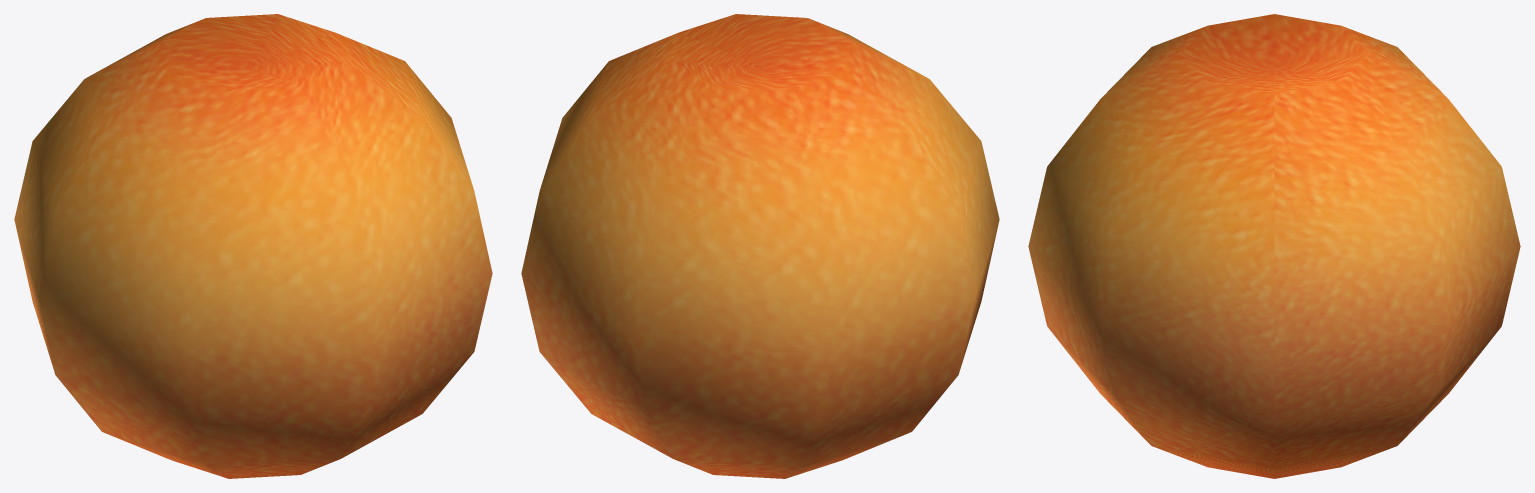
The model's file is Grapefruit_Whole.fbx.
3 renders of one model, left to right at view 1: azimuth 30°, elevation 25°; view 2: azimuth 150°, elevation 25°; view 3: azimuth 270°, elevation 25°, orthographic.
Visible parts, largest first — view 1: Grapefruit_Whole; view 2: Grapefruit_Whole; view 3: Grapefruit_Whole.
Part boxes in pixels (x1=…): Grapefruit_Whole: x1=14, y1=14, x2=492, y2=478; Grapefruit_Whole: x1=521, y1=14, x2=999, y2=478; Grapefruit_Whole: x1=1028, y1=14, x2=1520, y2=478.
Size of the model in its own units: 39.19 by 35.25 by 39.19.
